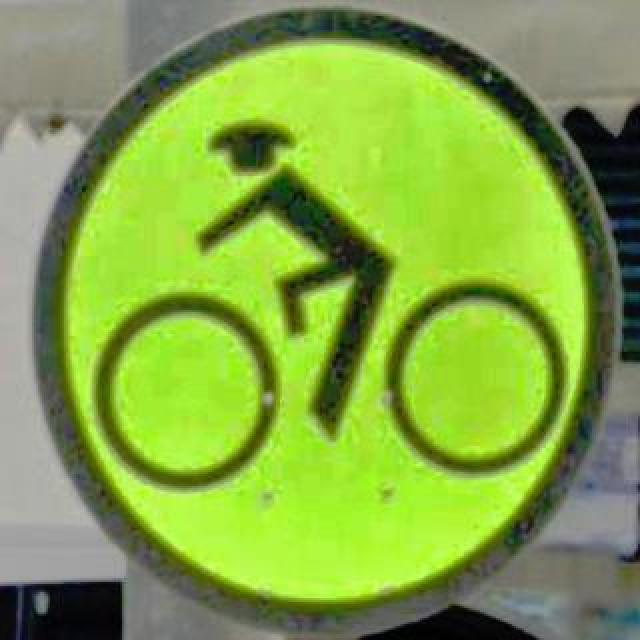bike lane: (30, 6, 618, 638)
